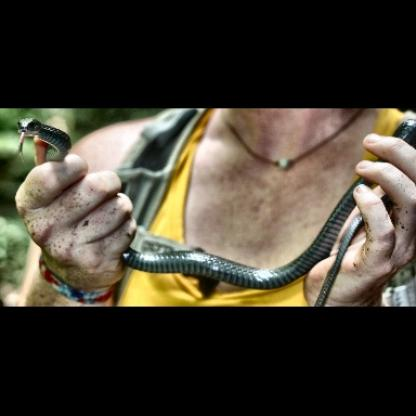Snake: (6, 116, 370, 288), (7, 113, 93, 174)
